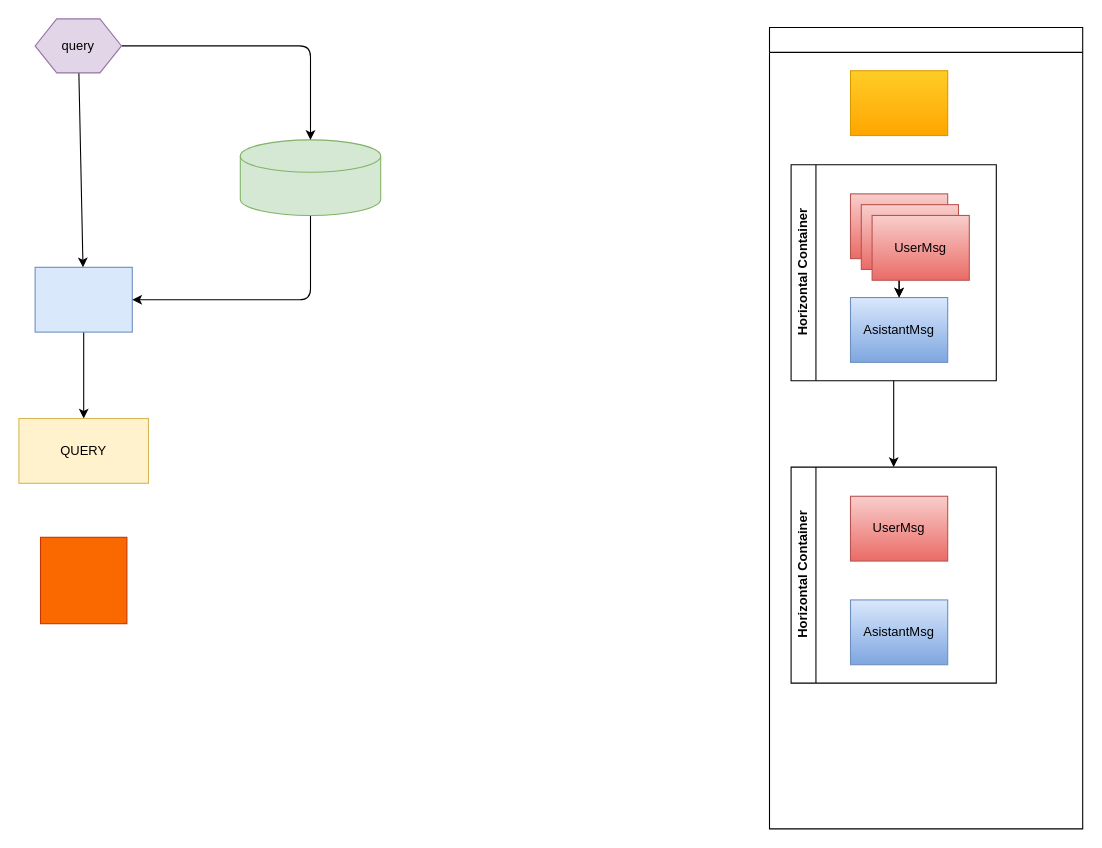
This 1102x848 diagram has some shape labels left out. Each missing label, with the centre of its shape:
"prompt" goes at point (83, 299).
"Related Data" goes at point (310, 177).
"SystemMsg" goes at point (898, 103).
